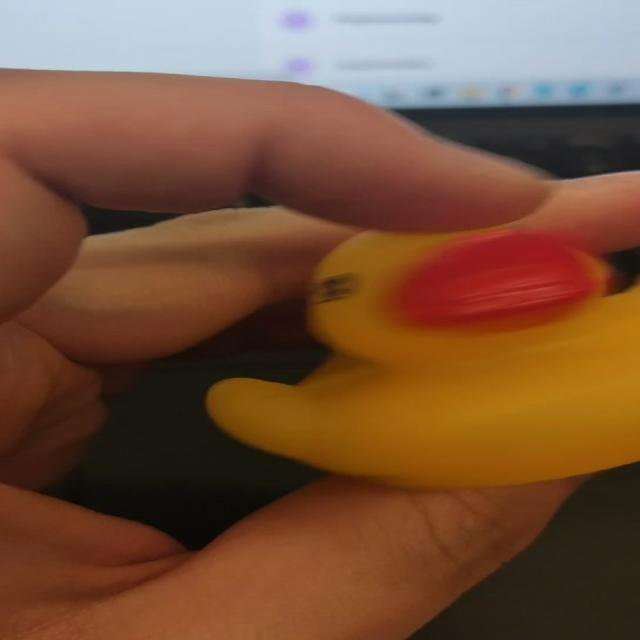rubber-duck: (207, 225, 638, 486)
